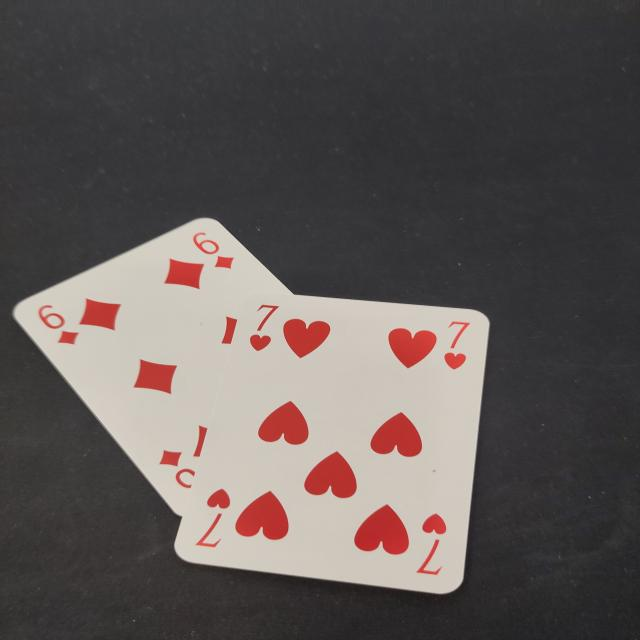6d: (151, 444, 208, 500), (30, 301, 89, 355), (189, 226, 241, 278)
7h: (185, 486, 241, 556), (410, 507, 458, 586), (240, 300, 282, 360), (437, 315, 478, 376)
